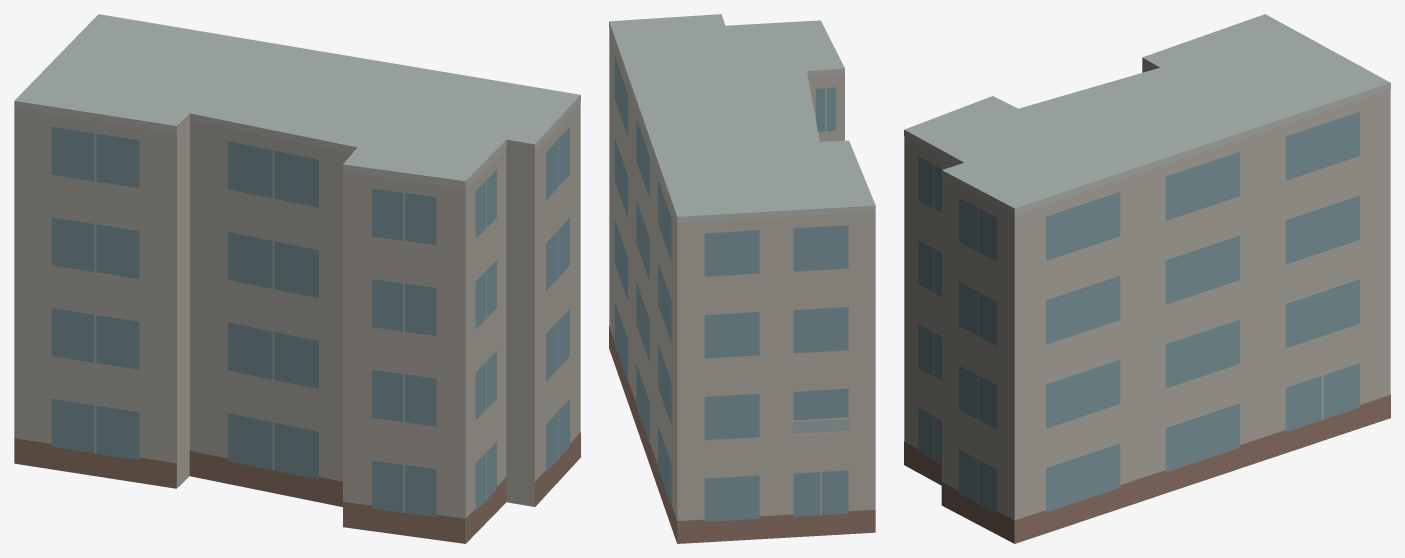
The model's file is survey-upis-32641529.glb.
3 renders of one model, left to right at view 1: azimuth 30°, elevation 25°; view 2: azimuth 150°, elevation 25°; view 3: azimuth 270°, elevation 25°, orthographic. The views are drawn at different scales.
Parts seen in each view (by area): view 1: survey-upis-32641529.tmp; view 2: survey-upis-32641529.tmp; view 3: survey-upis-32641529.tmp.
Boxes of the visible parts, x1,y1,x2,y2 form: survey-upis-32641529.tmp: [14, 14, 580, 543]; survey-upis-32641529.tmp: [609, 14, 875, 543]; survey-upis-32641529.tmp: [904, 14, 1390, 543].
Bounding box in the file's own units: 15.18 × 12.2 × 16.05.
